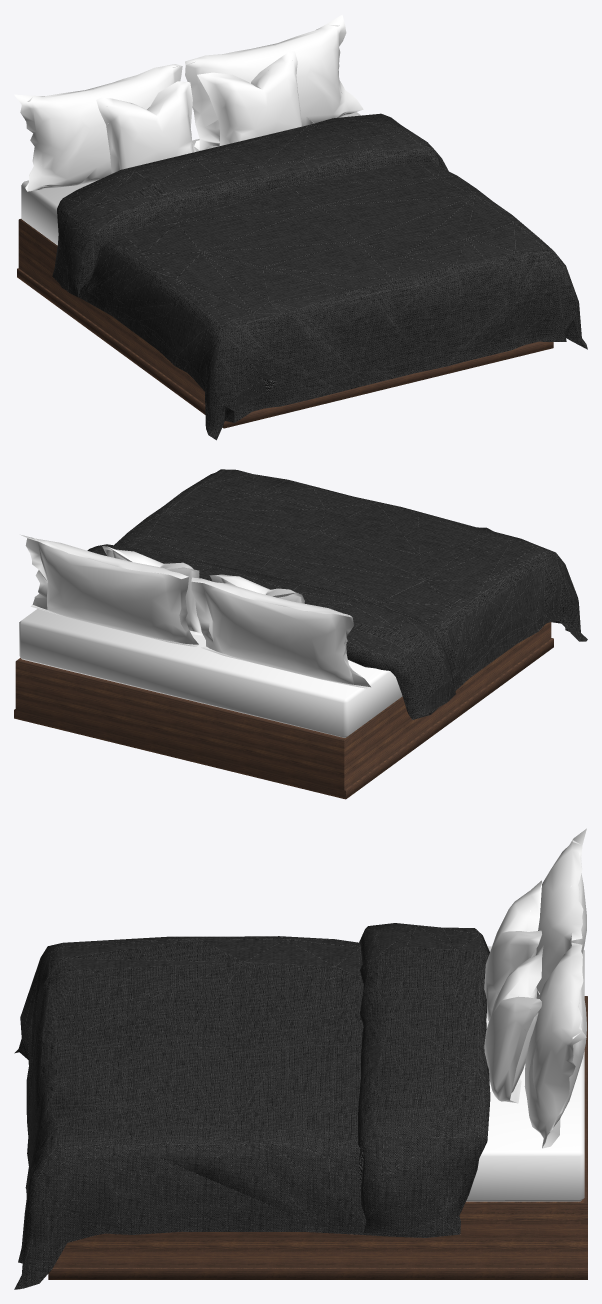
The model's file is SM_Bed_2.fbx.
The picture shows the model from 3 angles, top to bottom: view 1: azimuth 30°, elevation 25°; view 2: azimuth 150°, elevation 25°; view 3: azimuth 270°, elevation 25°; orthographic projection. The views are drawn at different scales.
Visible parts, largest first — view 1: SM_Bed_2; view 2: SM_Bed_2; view 3: SM_Bed_2.
Boxes of the visible parts, bbox=[...] form: SM_Bed_2: bbox=[14, 15, 587, 440]; SM_Bed_2: bbox=[14, 469, 587, 799]; SM_Bed_2: bbox=[14, 828, 587, 1289].
Bounding box in the file's own units: 2.05 × 0.9515 × 2.06.
Materials: 3 (3 with a texture image).
